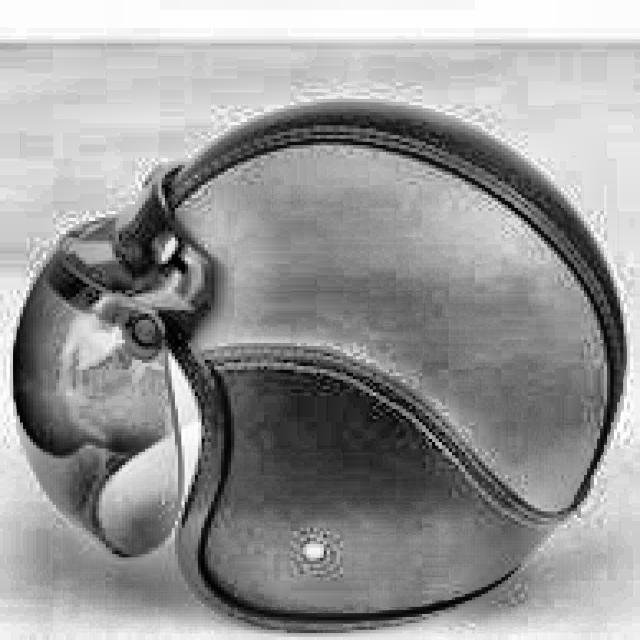Helmet: (11, 98, 640, 640)
